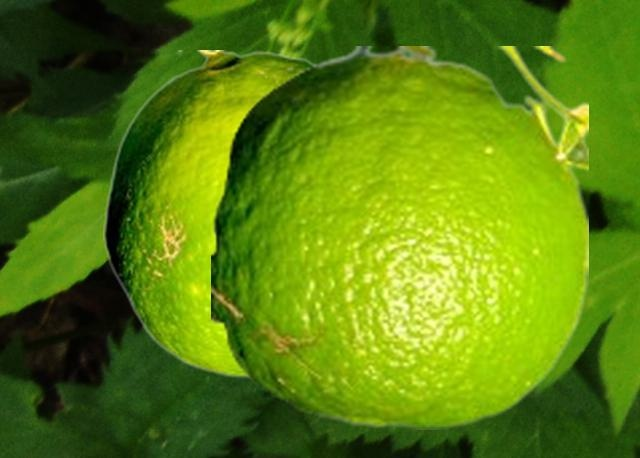dalandan: (211, 46, 587, 428), (103, 50, 319, 377)
